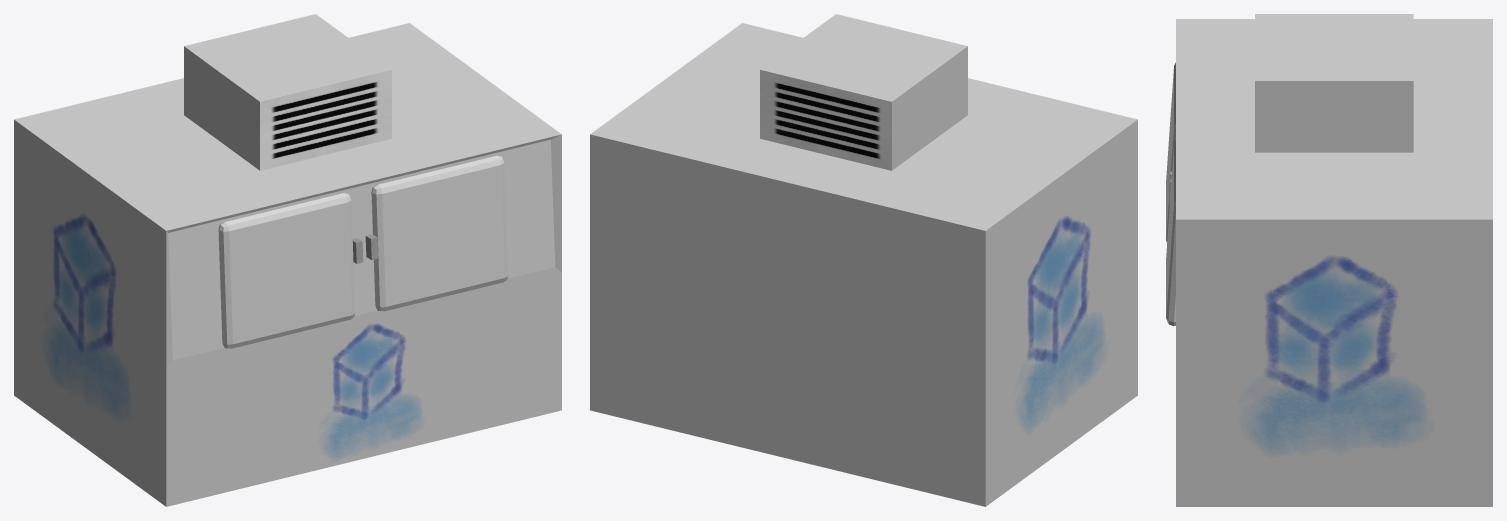
Rendered from ice-machine.glb.
3 views of the same model, side by side, from view 1: azimuth 30°, elevation 25°; view 2: azimuth 150°, elevation 25°; view 3: azimuth 270°, elevation 25° (orthographic). The views are drawn at different scales.
Parts seen in each view (by area): view 1: container, motor, door-b, door-a; view 2: container, motor; view 3: container, motor, door-a, door-b.
Boxes of the visible parts, box(x1,y1,x2,y2) form: container: box(14, 23, 561, 506); motor: box(184, 14, 391, 170); door-b: box(218, 193, 363, 348); door-a: box(365, 155, 508, 311); container: box(590, 23, 1137, 506); motor: box(760, 14, 967, 170); container: box(1176, 19, 1492, 506); motor: box(1255, 14, 1413, 152); door-a: box(1166, 140, 1175, 326); door-b: box(1166, 62, 1175, 242).
Size of the model in its own units: 3.03 by 2.5 by 2.06.
9 materials, 7 textured.
